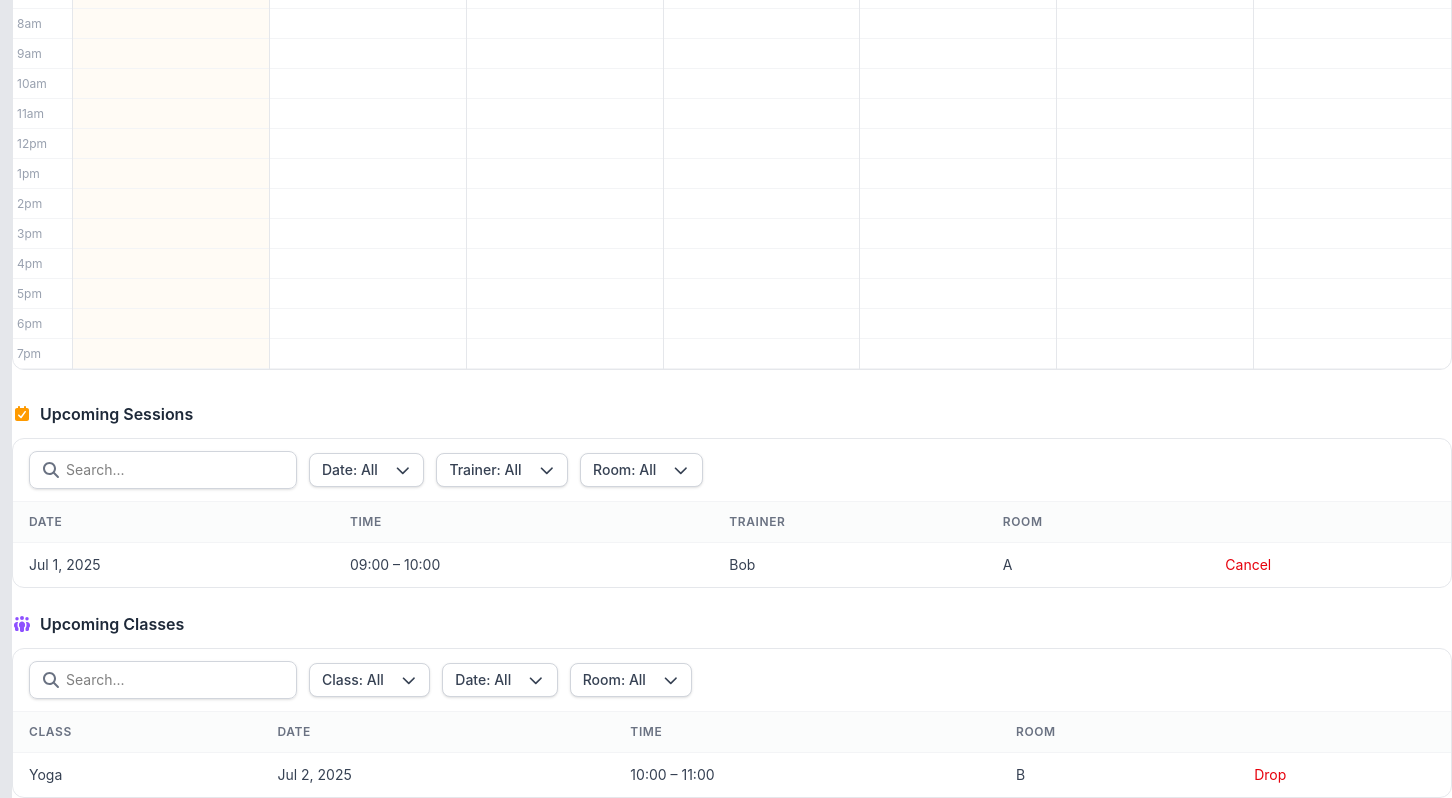
Test: MySchedule page › opens drop class dialog from table Drop button
(page scrolled)
Expected: the heading "Upcoming Classes" is shown, [40, 612, 184, 636]
Click the button "Drop".
click(1270, 775)  # box [1254, 765, 1286, 785]
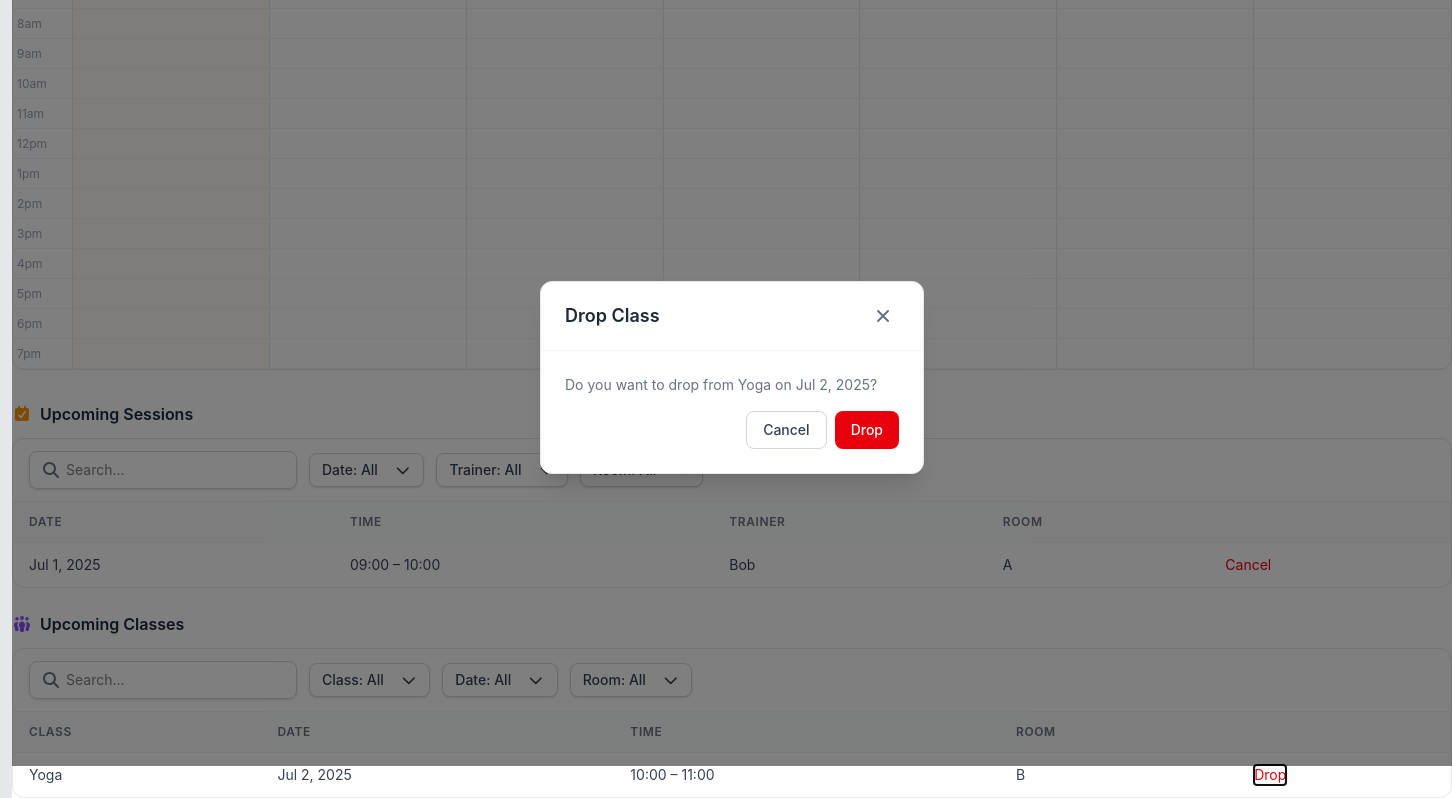
Now the text "Do you want to drop from Yoga on Jul 2, 2025?" is shown, box [565, 374, 899, 394]
